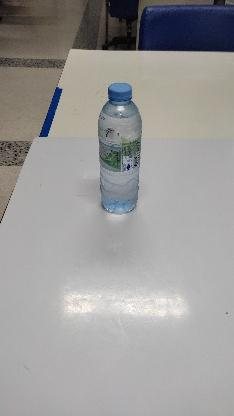Plastic Bottle: (97, 80, 143, 214)
